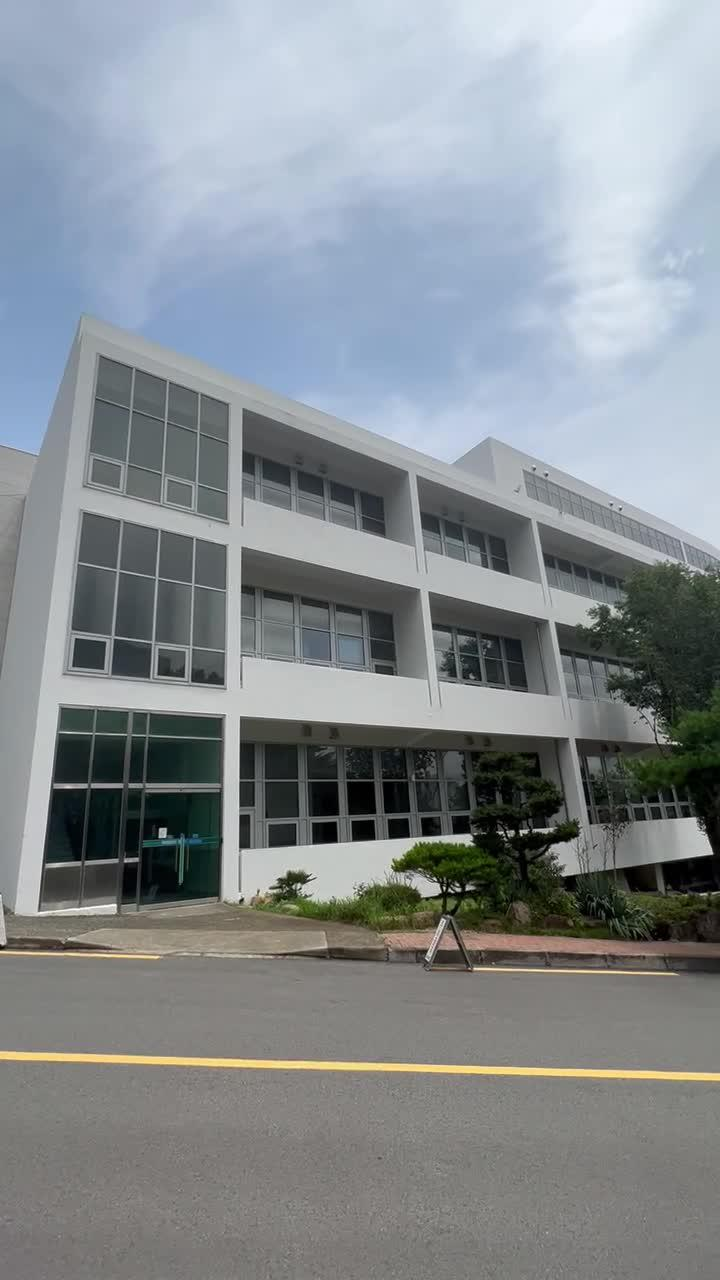building: (34, 388, 552, 820)
